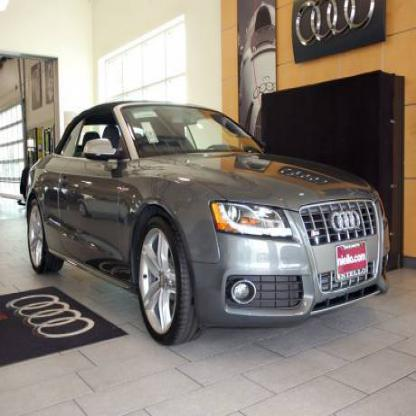Vehicle: (25, 102, 392, 348)
